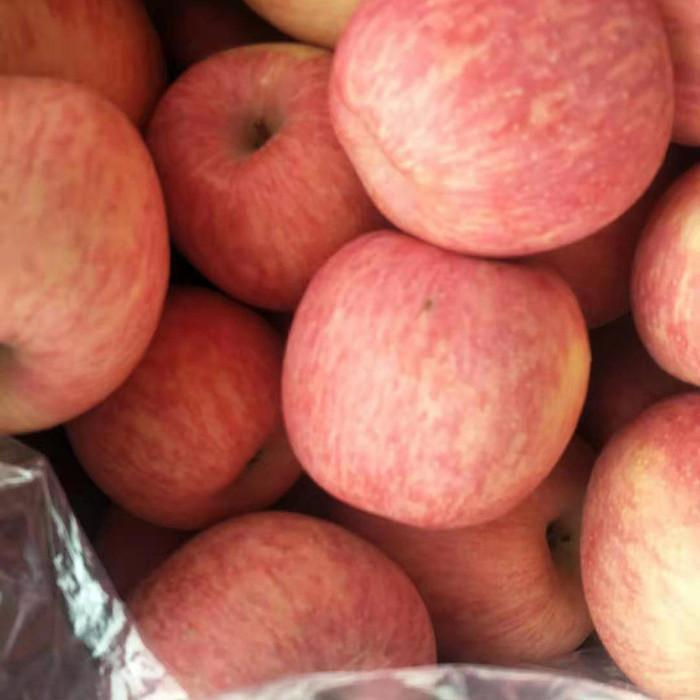apple: (281, 228, 594, 529), (328, 3, 676, 259), (139, 43, 376, 326), (1, 71, 171, 457), (125, 508, 438, 700), (75, 292, 299, 534), (344, 452, 606, 658), (578, 385, 699, 694), (626, 163, 699, 388)
